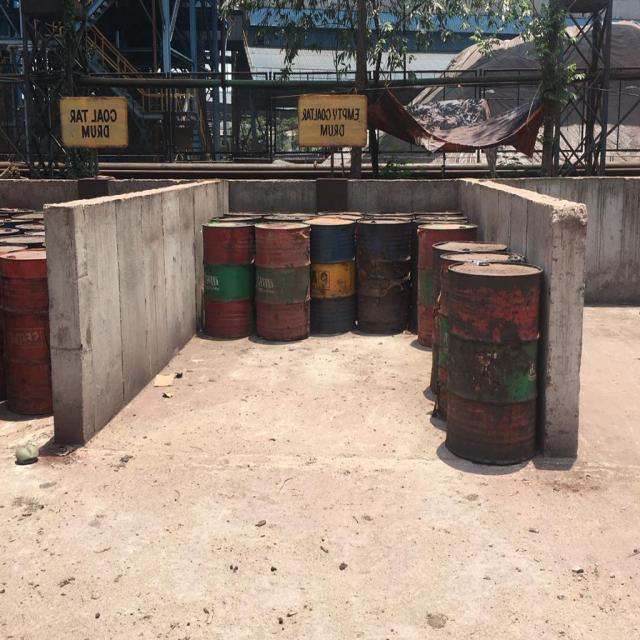dustbins: (58, 177, 578, 455)
